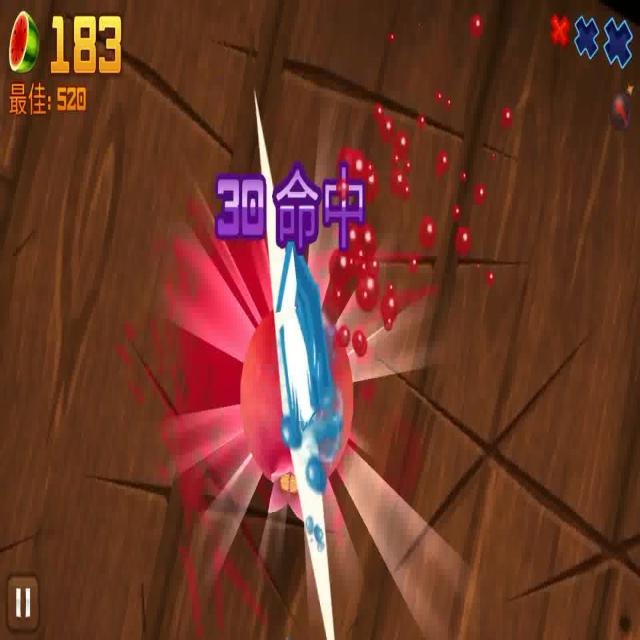fruit: (240, 299, 360, 496)
